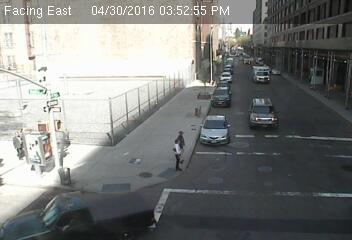neg: (63, 201, 85, 230), (45, 95, 65, 122), (30, 156, 50, 181), (99, 99, 118, 124), (38, 203, 57, 227), (35, 128, 53, 152)
pos: (168, 127, 196, 164), (162, 136, 189, 172), (3, 129, 27, 161)
